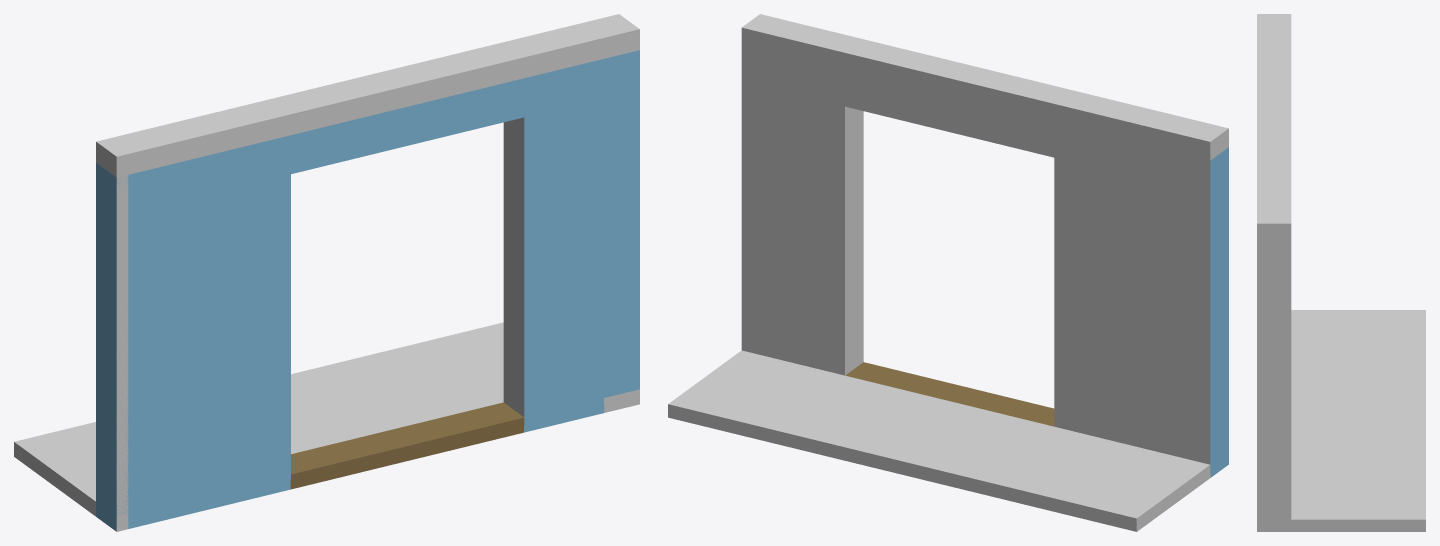
Rendered from FacadeBedroom.fbx.
3 renders of one model, left to right at view 1: azimuth 30°, elevation 25°; view 2: azimuth 150°, elevation 25°; view 3: azimuth 270°, elevation 25°, orthographic. The views are drawn at different scales.
Parts seen in each view (by area): view 1: Flat.005; view 2: Flat.005; view 3: Flat.005.
Part boxes in pixels (x1,y1,x2,y2): Flat.005: (14,14,639,531); Flat.005: (668,14,1228,531); Flat.005: (1257,14,1425,531).
Size of the model in its own units: 3647 by 2500 by 1241.
